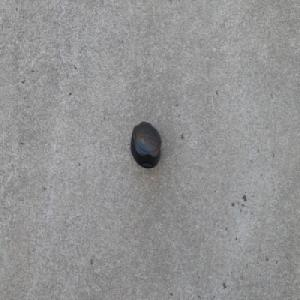FuelCap: (130, 121, 161, 169)
